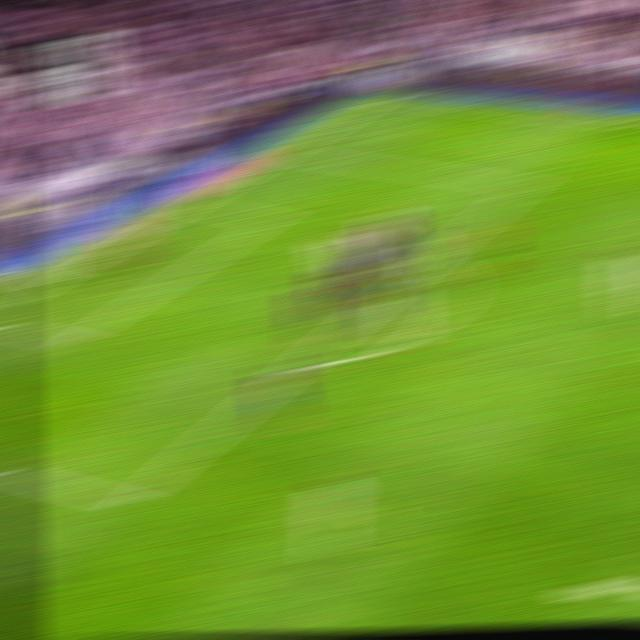bigarea_bottom_inner: (111, 489, 147, 514)
bigarea_top_inner: (509, 177, 540, 192)
bigarea_top_outter: (272, 146, 302, 156)
bottom_arc_area_intersection: (281, 356, 315, 375)
corner: (366, 93, 398, 102)
smallarea_bottom_inner: (56, 331, 89, 351)
smallarea_top_inner: (253, 210, 286, 226)
top_arc_area_intersection: (417, 249, 448, 264)
